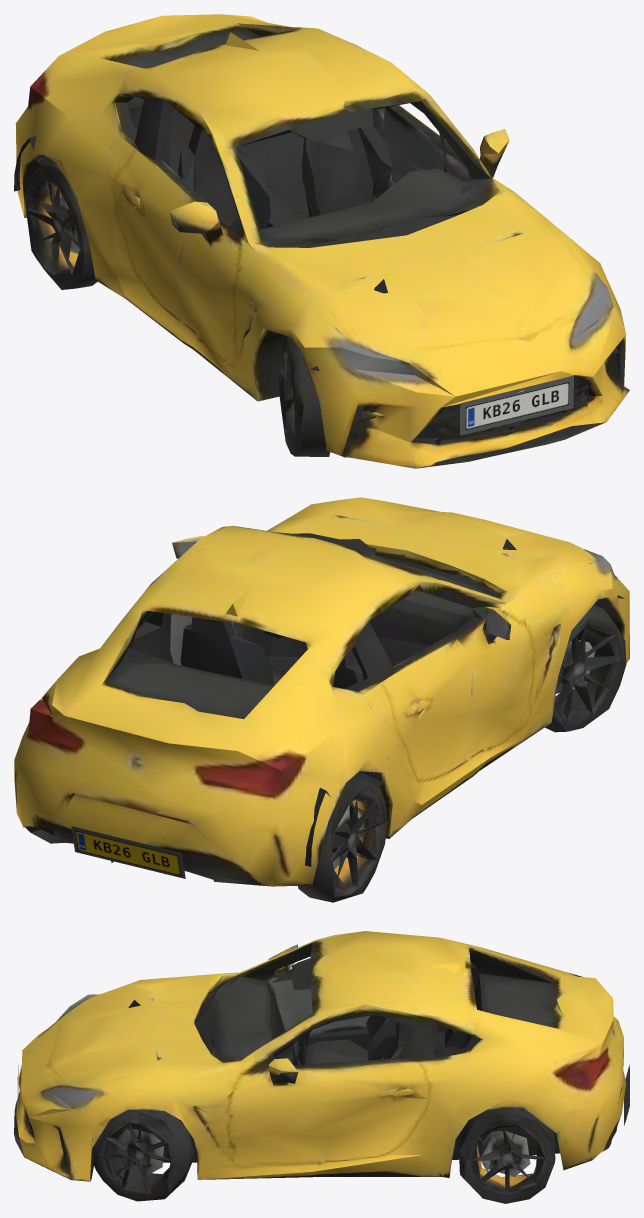
Rendered from car-sports-lod.glb.
3 views of the same model, one above another, from view 1: azimuth 30°, elevation 25°; view 2: azimuth 150°, elevation 25°; view 3: azimuth 270°, elevation 25° (orthographic). The views are drawn at different scales.
Parts seen in each view (by area): view 1: body, wheel_RR_mesh, wheel_FR_mesh; view 2: body, wheel_RR_mesh, wheel_FR_mesh; view 3: body, wheel_RL_mesh, wheel_FL_mesh.
Part boxes in pixels (x1,y1,x2,y2): body: [14, 14, 629, 468]; wheel_RR_mesh: [25, 163, 97, 289]; wheel_FR_mesh: [276, 335, 346, 457]; body: [14, 497, 629, 886]; wheel_RR_mesh: [298, 775, 387, 902]; wheel_FR_mesh: [552, 604, 626, 731]; body: [14, 931, 629, 1181]; wheel_RL_mesh: [452, 1107, 559, 1203]; wheel_FL_mesh: [90, 1109, 193, 1201].
Size of the model in its own units: 2.14 by 1.46 by 4.38.
3 materials, 2 textured.
